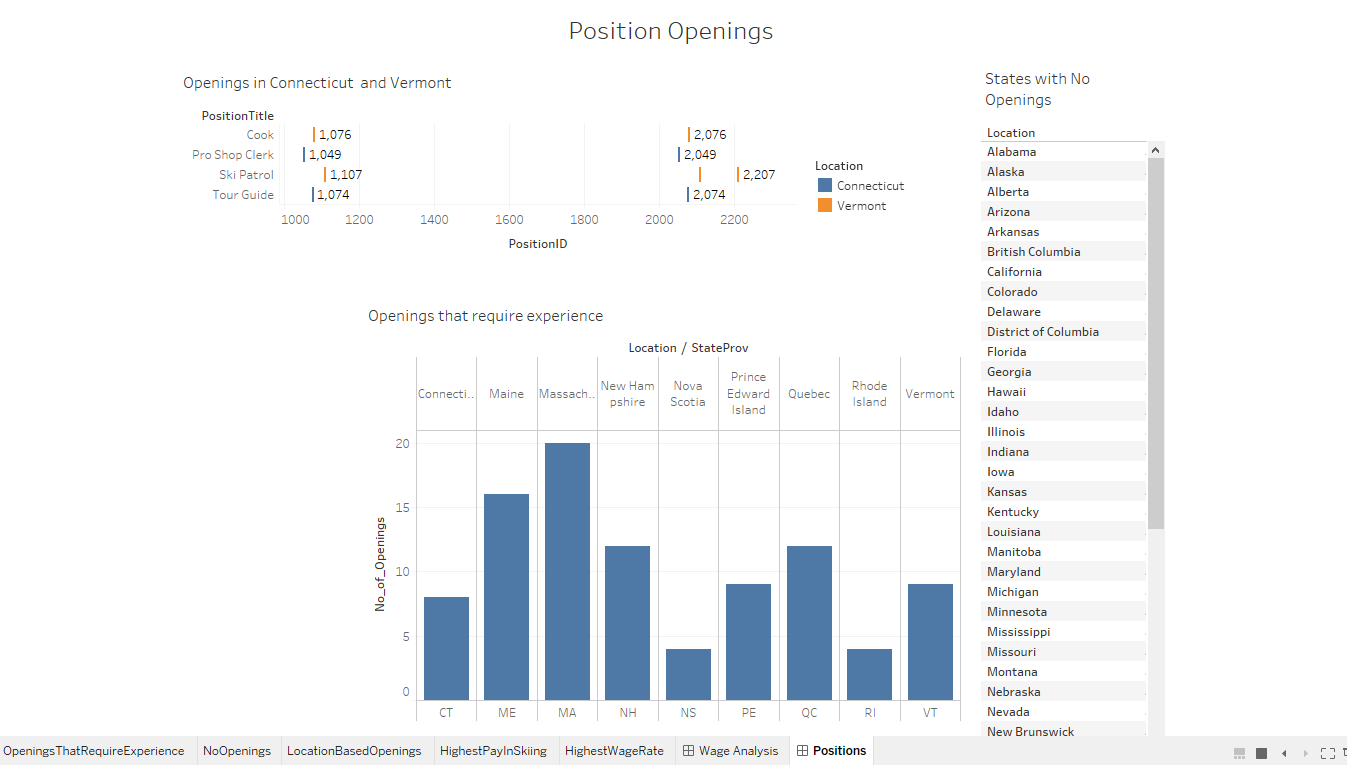

What the dashboard file says about the page in this screenshot:
{"tool":"tableau","page":{"name":"Positions","canvas":[1000,800],"ordinal":0},"visuals":[{"type":"title","box":[0,0,1000,60]},{"type":"worksheet","title":"NoOpenings","mark":"Automatic","rows":["Location"],"box":[810,66,186,729]},{"type":"worksheet","title":"LocationBasedOpenings","mark":"Automatic","rows":["PositionTitle"],"cols":["PositionID"],"box":[8,70,618,214]},{"type":"legend","title":"LocationBasedOpenings","param":"[federated.107wgms0hgd3lq1fo6ysb1lzbs5b].[none:Location:nk]","box":[644,159,140,58]},{"type":"worksheet","title":"OpeningsThatRequireExperience","mark":"Automatic","rows":["No_of_Openings"],"cols":["Location","StateProv"],"box":[8,303,782,421]}]}

Visuals, with their boxes on the page's 1000x800 design canvas (x1, y1, x2, y2). These are canvas units, not pixel positions in the 1347x765 screenshot, which may show the page scaled, cropped or inside an application window:
title: rect(0, 0, 1000, 60)
"NoOpenings" worksheet: rect(810, 66, 996, 795)
"LocationBasedOpenings" worksheet: rect(8, 70, 626, 284)
"LocationBasedOpenings" legend: rect(644, 159, 784, 217)
"OpeningsThatRequireExperience" worksheet: rect(8, 303, 790, 724)
